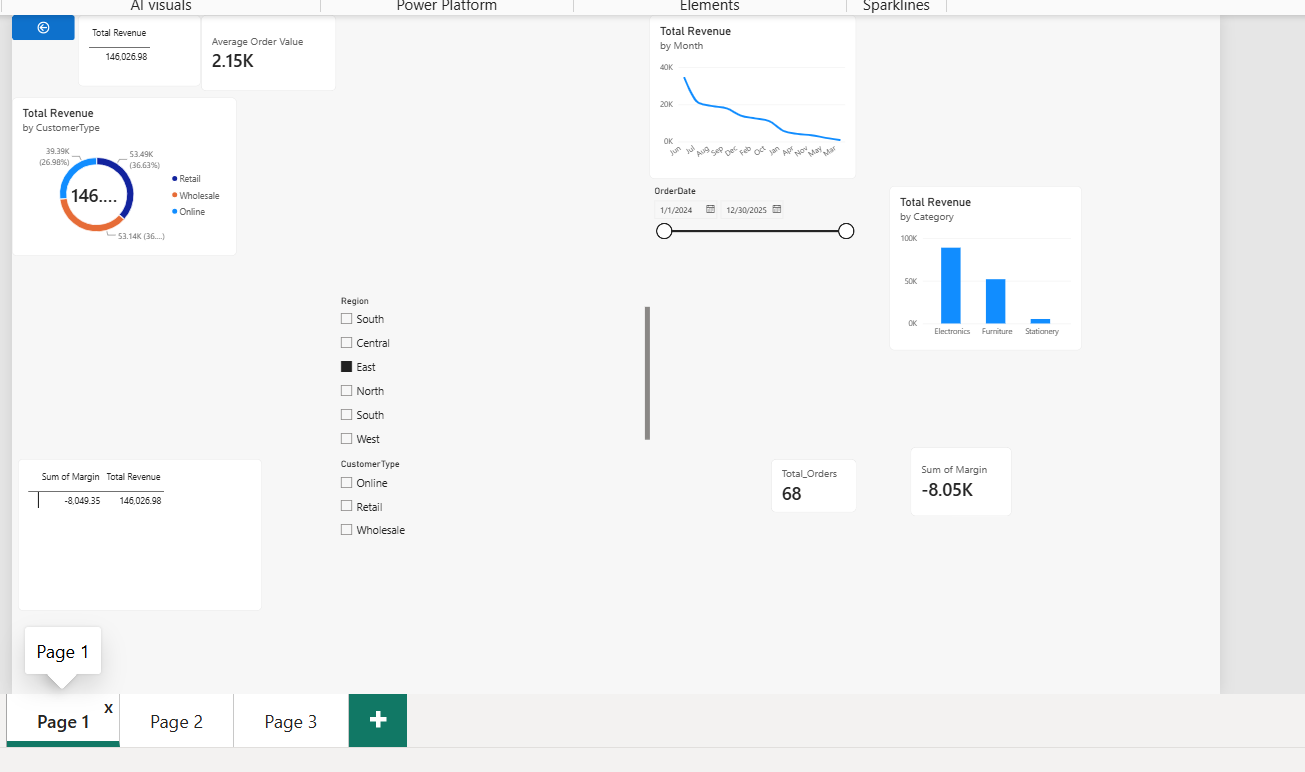

Layout of this report page (visuals, bound fields, positions):
{"tool":"powerbi","page":{"name":"Page 1","canvas":[1920,1080],"ordinal":0},"visuals":[{"type":"cardVisual","fields":{"Data":["Sales.Total_Orders"]},"box":[1207.6,705.8,136.1,85],"z":0},{"type":"cardVisual","fields":{"Data":["Sales.Average Order Value"]},"box":[300.5,0,215.4,121.9],"z":1},{"type":"tableEx","fields":{"Values":["Sales.Total Revenue"]},"box":[104.9,0,195.6,113.4],"z":2},{"type":"lineChart","fields":{"Category":["Date.Month"],"Y":["Sales.Total Revenue"]},"box":[1014.8,0,328.8,260.8],"z":4},{"type":"donutChart","fields":{"Category":["Customers.CustomerType"],"Y":["Sales.Total Revenue"]},"box":[0,130.4,357.2,252.3],"z":5},{"type":"pivotTable","fields":{"Values":["Sum(Sales.Margin)","Sales.Total Revenue"]},"box":[9,705.5,388,241],"z":7},{"type":"slicer","fields":{"Values":["Sales.Region"]},"box":[516,445,499,241],"z":8},{"type":"slicer","fields":{"Values":["Customers.CustomerType"]},"box":[516,706,499,241],"z":9},{"type":"slicer","fields":{"Values":["Sales.OrderDate"]},"box":[1015,271,329,261],"z":10},{"type":"actionButton","box":[0,0,100,40],"z":11},{"type":"columnChart","fields":{"Category":["Products.Category"],"Y":["Sales.Total Revenue"]},"box":[1394.7,272.1,306,261],"z":12},{"type":"cardVisual","fields":{"Data":["Sum(Sales.Margin)"]},"box":[1428.7,686,161.6,110.6],"z":13}]}

Visuals, with their boxes on the page's 1920x1080 design canvas (x1, y1, x2, y2). These are canvas units, not pixel positions in the 1305x772 screenshot, which may show the page scaled, cropped or inside an application window:
cardVisual - Sales.Total_Orders: 1208,706,1344,791
cardVisual - Sales.Average Order Value: 300,0,516,122
tableEx - Sales.Total Revenue: 105,0,300,113
lineChart - Date.Month x Sales.Total Revenue: 1015,0,1344,261
donutChart - Customers.CustomerType x Sales.Total Revenue: 0,130,357,383
pivotTable - Sum(Sales.Margin) x Sales.Total Revenue: 9,706,397,946
slicer - Sales.Region: 516,445,1015,686
slicer - Customers.CustomerType: 516,706,1015,947
slicer - Sales.OrderDate: 1015,271,1344,532
actionButton: 0,0,100,40
columnChart - Products.Category x Sales.Total Revenue: 1395,272,1701,533
cardVisual - Sum(Sales.Margin): 1429,686,1590,797
